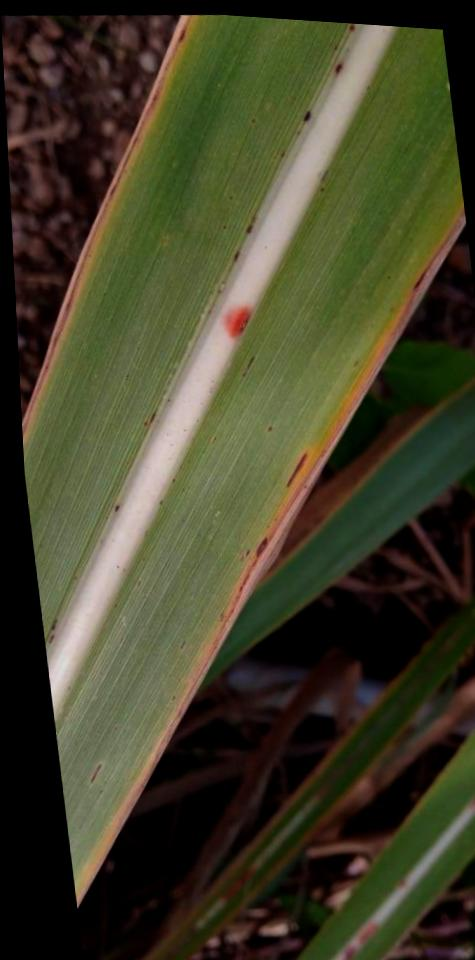RedRot: (220, 305, 255, 341), (255, 538, 266, 557)
Rust: (285, 453, 306, 488), (240, 355, 255, 380), (88, 764, 101, 785), (141, 412, 155, 426), (302, 111, 311, 123), (334, 64, 342, 77), (47, 634, 54, 646), (232, 250, 239, 261), (50, 620, 57, 631), (347, 23, 355, 32), (112, 504, 119, 513), (170, 478, 176, 484), (247, 226, 251, 234), (158, 498, 162, 506), (267, 426, 271, 432)
